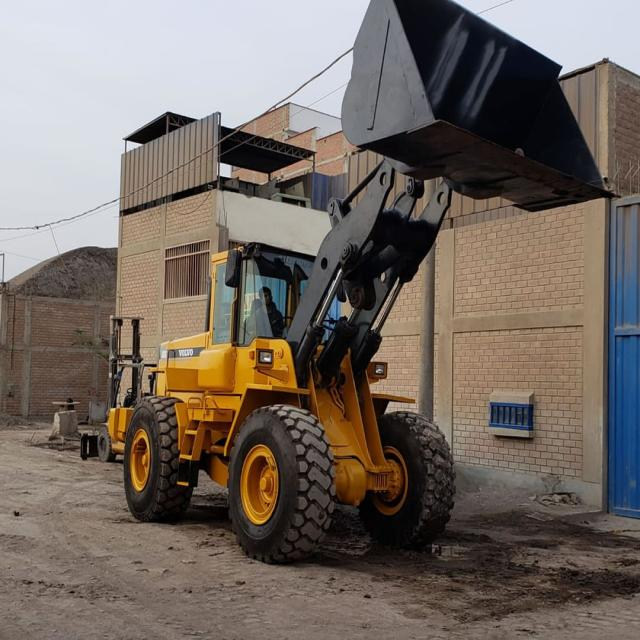buldozerpayloadergrader: (124, 232, 463, 558)
